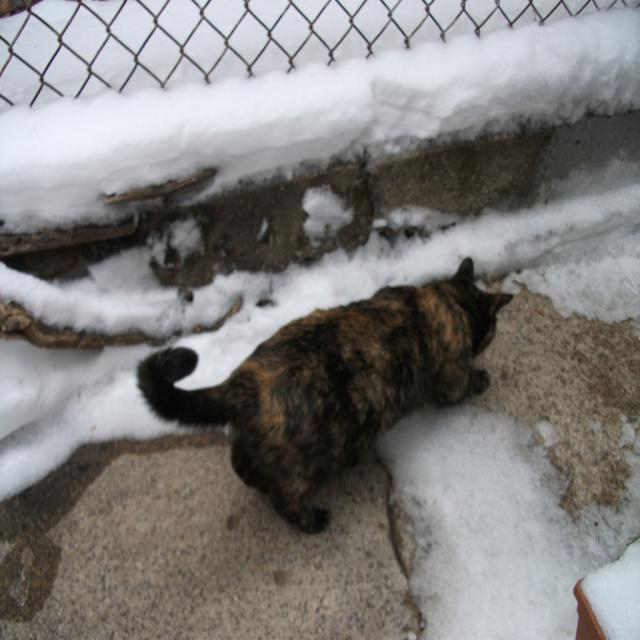Cat: (135, 246, 511, 537)
